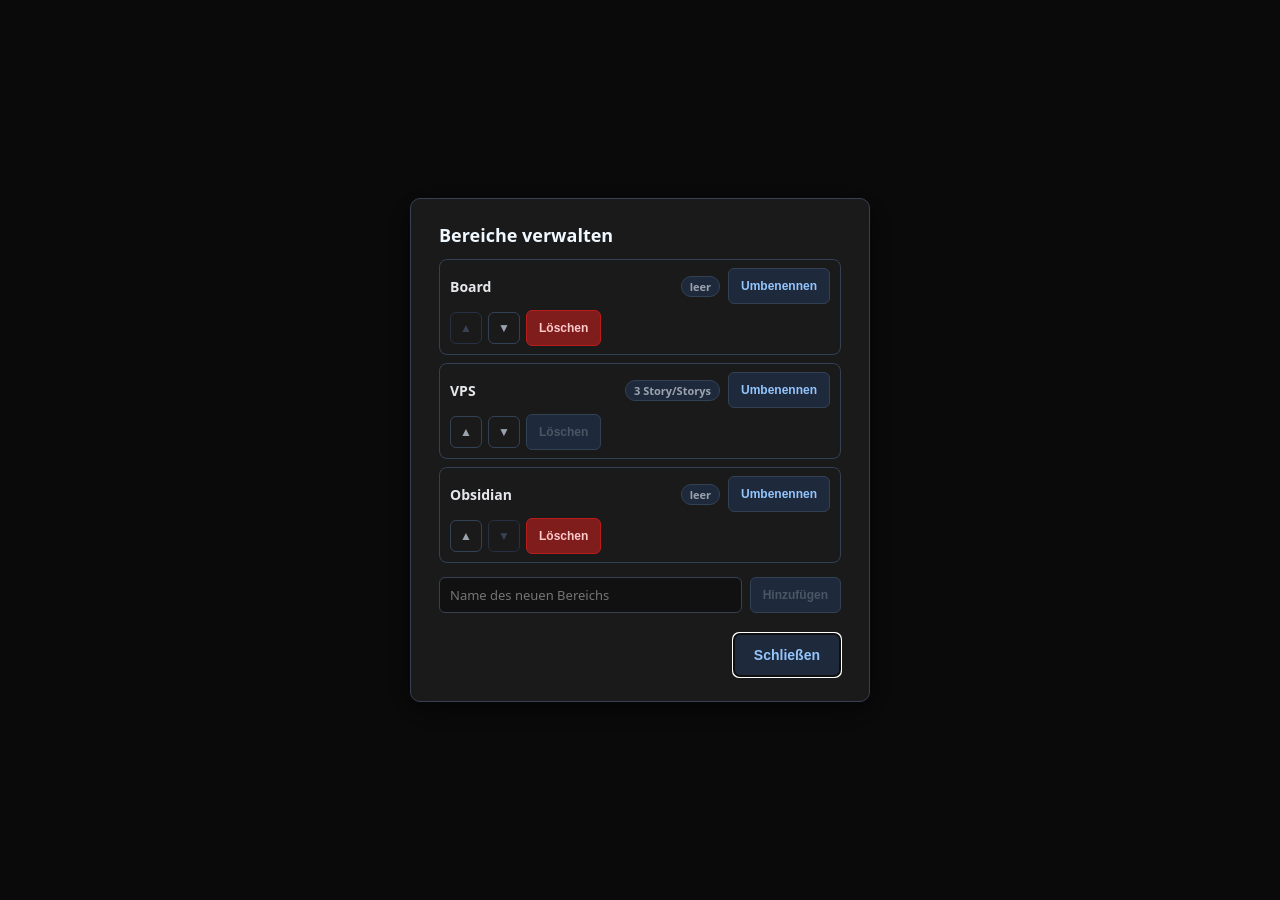
bereichs-modell AC8 — Bereichsliste + Mutationen › Umbenennen: Inline-Edit → PATCH mit getrimmtem Namen, danach Reload
Expected: the dialog with test id "areas-manage-dialog" is shown, [410,198,870,702]
Expected: the number of list items with test id "areas-manage-row" is 3, [439,259,841,355]; [439,363,841,459]; [439,467,841,563]
Click the button with test id "areas-manage-rename-btn-board".
click(779, 286)  # box [728,268,830,304]
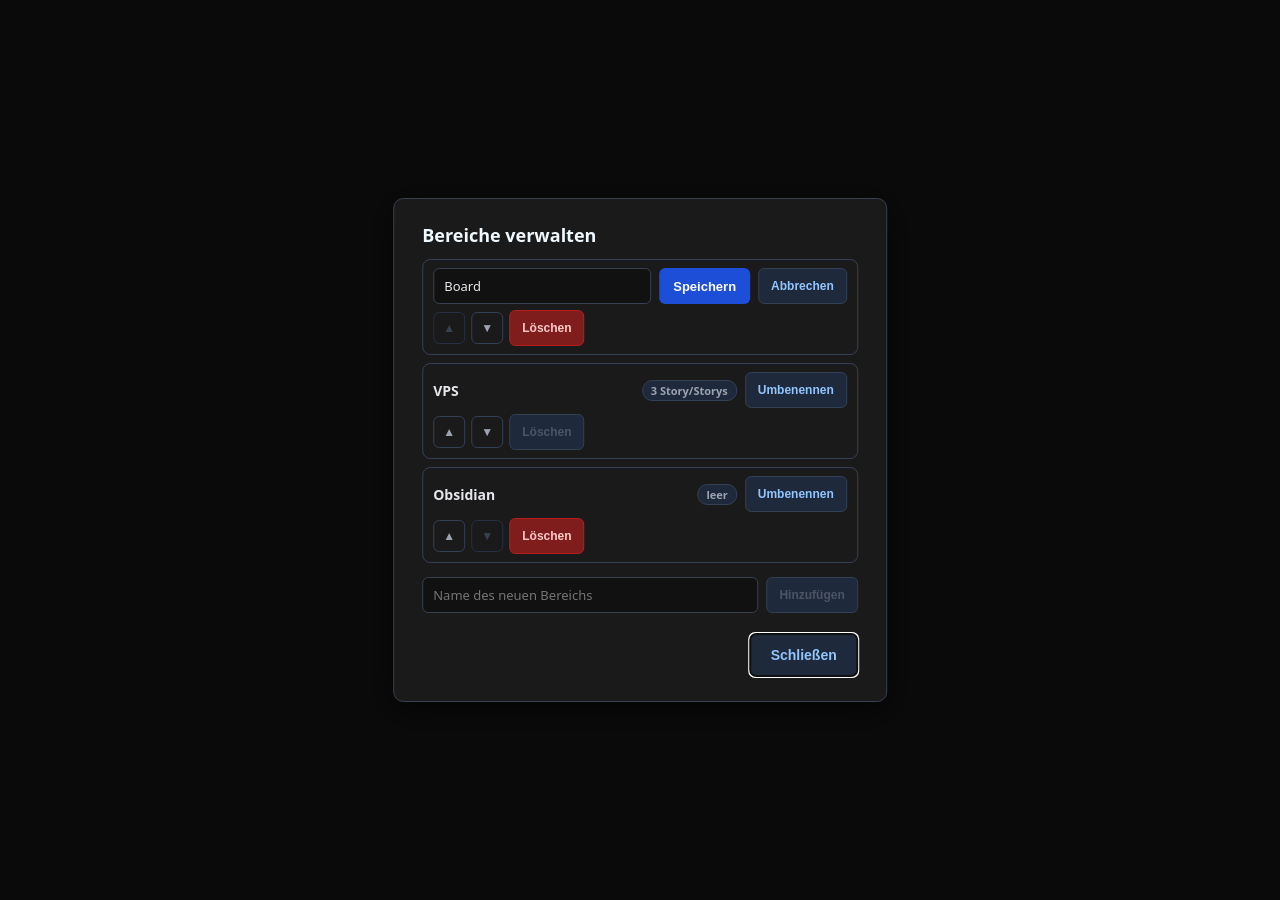
Now the field with test id "areas-manage-edit-input-board" is shown
Now the field with test id "areas-manage-edit-input-board" holds "Board"
Replace the text in the field with test id "areas-manage-edit-input-board" with "  Board Neu  " at (542, 286), box [433,268,651,304]
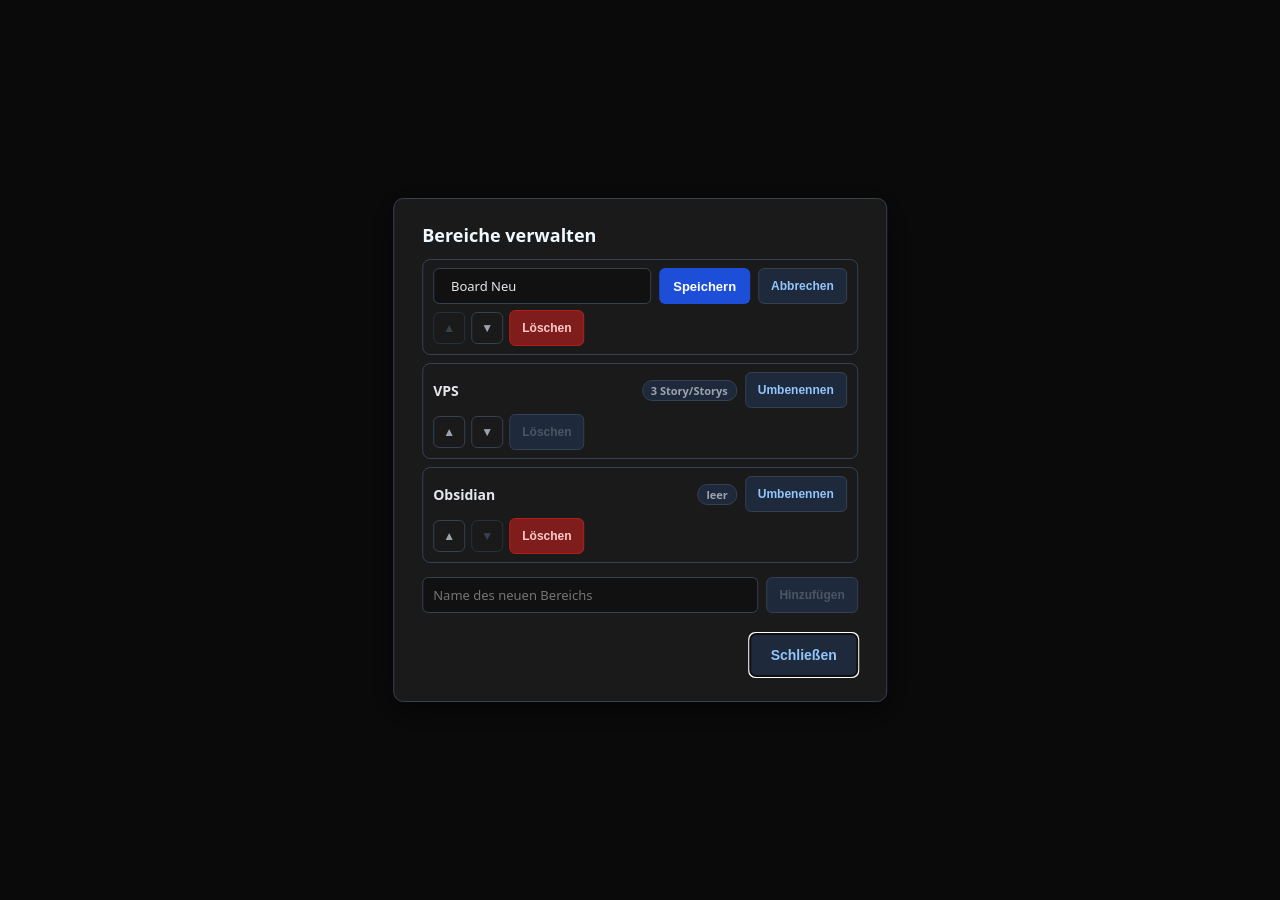
Click the button with test id "areas-manage-rename-btn-board".
click(705, 286)  # box [659,268,750,304]
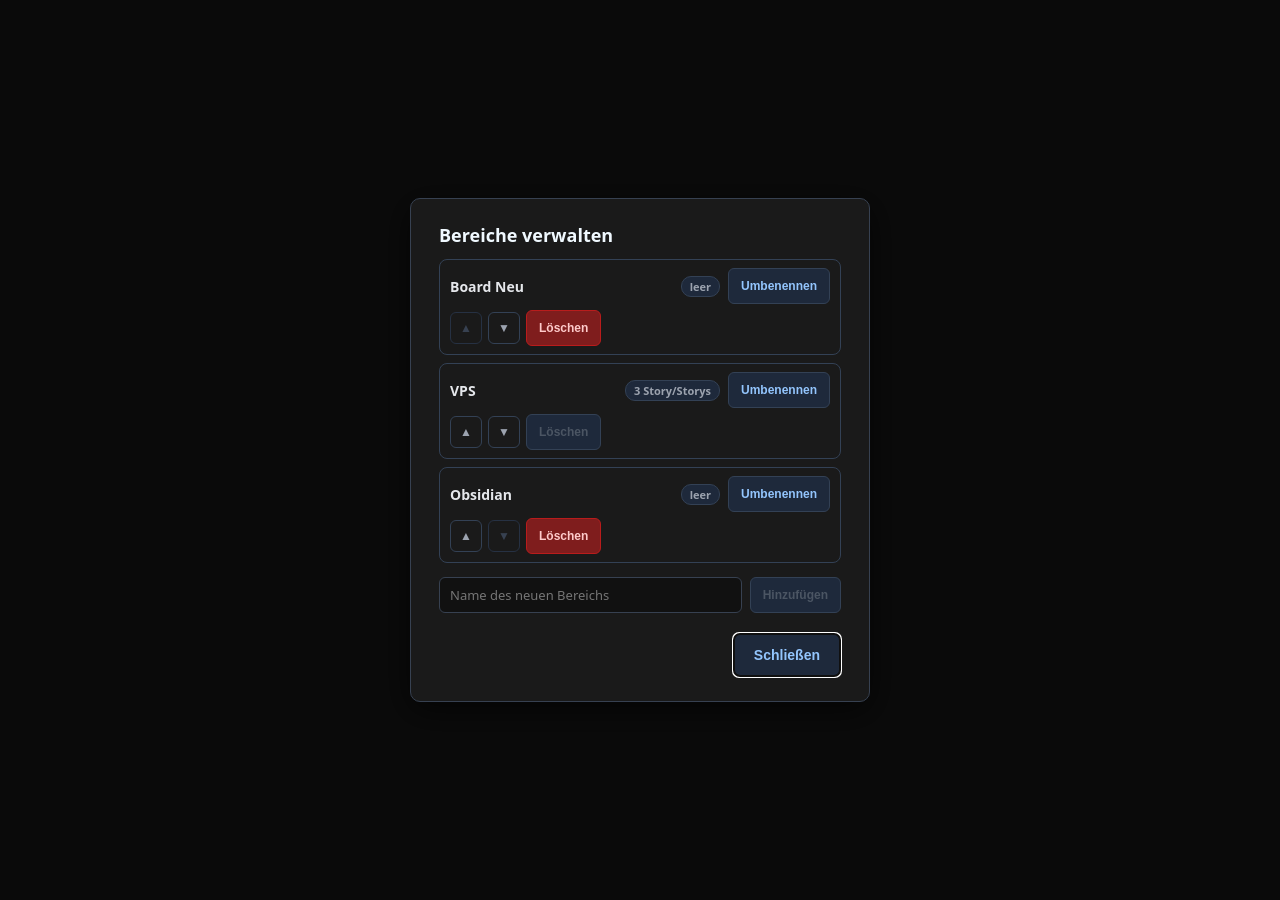
Now the text with test id "areas-manage-name-board" reads "Board Neu", box [450,276,524,296]
